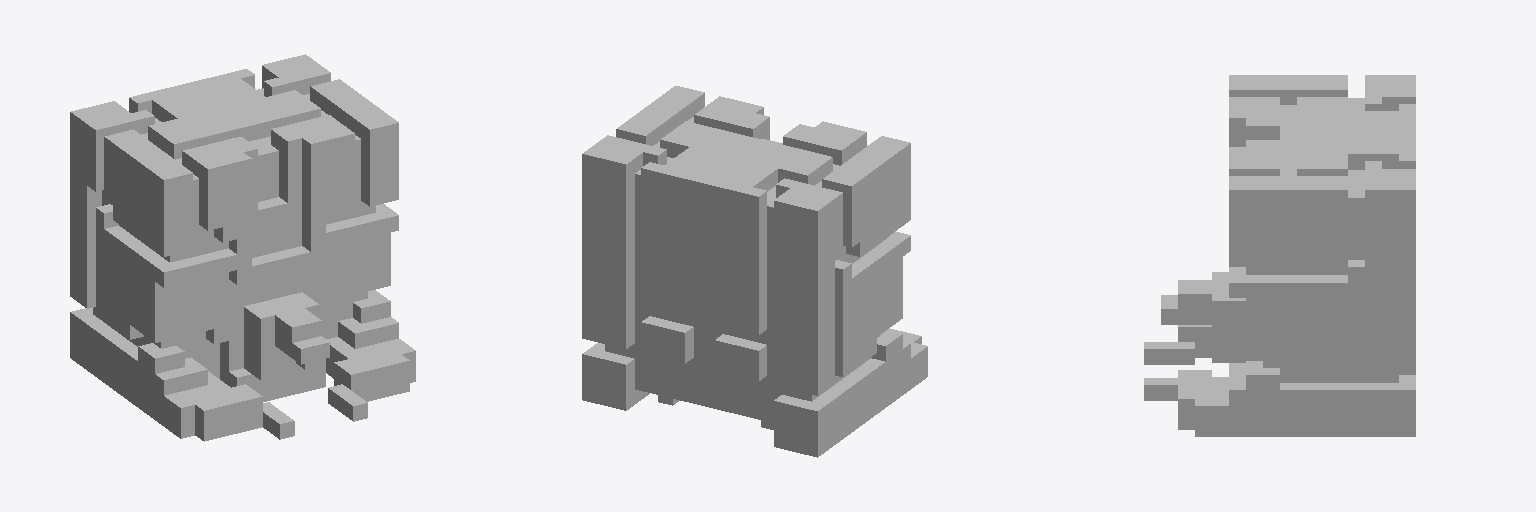
The model's file is FlyingHomingPlasmaDroneBot_LOD1.obj.
The picture shows the model from 3 angles: view 1: azimuth 30°, elevation 25°; view 2: azimuth 150°, elevation 25°; view 3: azimuth 270°, elevation 25°; orthographic projection.
Visible parts, largest first — view 1: object 1; view 2: object 1; view 3: object 1.
Part boxes in pixels (x1,y1,x2,y2): object 1: (70, 54, 415, 441); object 1: (582, 86, 927, 457); object 1: (1144, 75, 1415, 436).
Size of the model in its own units: 1.6 by 1.6 by 1.6.